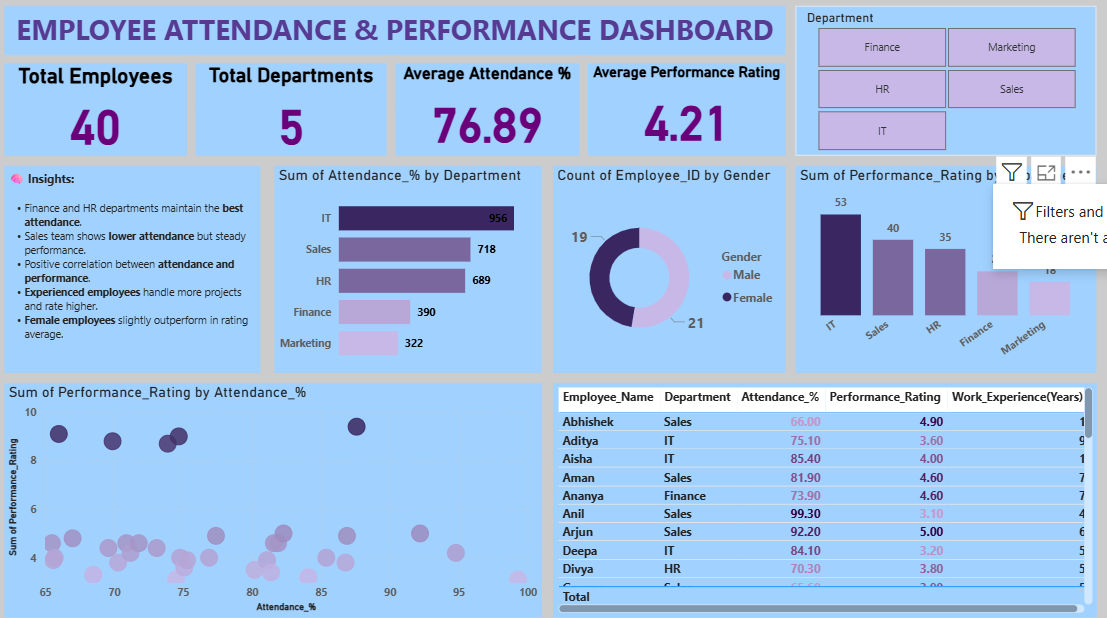

Layout of this report page (visuals, bound fields, positions):
{"tool":"powerbi","page":{"name":"Page 1","canvas":[1280,720],"ordinal":0},"visuals":[{"type":"card","title":"Total Employees","fields":{"Values":["Sheet1.Employee_ID"]},"box":[12.9,75.7,208.6,105.7],"z":0},{"type":"card","title":"Total Departments","fields":{"Values":["Sheet1.Department"]},"box":[231.4,75.7,218.6,105.7],"z":1000},{"type":"card","title":"Average Attendance %","fields":{"Values":["Sheet1.Attendance_%"]},"box":[460,75.7,210,105.7],"z":2000},{"type":"card","title":"Average Performance Rating","fields":{"Values":["Sheet1.Performance_Rating"]},"box":[680,75.7,225.7,105.7],"z":3000},{"type":"barChart","fields":{"Category":["Sheet1.Department"],"Y":["Sheet1.Attendance_%"]},"box":[321.4,192.9,305.7,237.1],"z":4000},{"type":"columnChart","fields":{"Category":["Sheet1.Department"],"Y":["Sheet1.Performance_Rating"]},"box":[917.1,192.9,344.3,237.1],"z":5000},{"type":"donutChart","fields":{"Category":["Sheet1.Gender"],"Y":["Sheet1.Employee_ID"]},"box":[640,192.9,265.7,237.1],"z":6000},{"type":"tableEx","fields":{"Values":["Sheet1.Employee_Name","Sheet1.Department","Sheet1.Attendance_%","Sheet1.Performance_Rating","Sheet1.Work_Experience(Years)"]},"box":[640,441.4,621.4,267.1],"z":7000},{"type":"scatterChart","fields":{"Y":["Sheet1.Performance_Rating"],"X":["Sheet1.Attendance_%"]},"box":[12.9,441.4,614.3,267.1],"z":8000},{"type":"textbox","box":[12.9,192.9,292.9,237.1],"z":9000},{"type":"textbox","box":[12.9,10,892.9,55.7],"z":10000},{"type":"slicer","fields":{"Values":["Sheet1.Department"]},"box":[917.1,10,344.3,171.4],"z":11000}]}

Visuals, with their boxes on the page's 1280x720 design canvas (x1, y1, x2, y2). These are canvas units, not pixel positions in the 1107x618 screenshot, which may show the page scaled, cropped or inside an application window:
"Total Employees" card: BBox(13, 76, 222, 181)
"Total Departments" card: BBox(231, 76, 450, 181)
"Average Attendance %" card: BBox(460, 76, 670, 181)
"Average Performance Rating" card: BBox(680, 76, 906, 181)
barChart - Sheet1.Department x Sheet1.Attendance_%: BBox(321, 193, 627, 430)
columnChart - Sheet1.Department x Sheet1.Performance_Rating: BBox(917, 193, 1261, 430)
donutChart - Sheet1.Gender x Sheet1.Employee_ID: BBox(640, 193, 906, 430)
tableEx - Sheet1.Employee_Name x Sheet1.Department: BBox(640, 441, 1261, 708)
scatterChart - Sheet1.Performance_Rating x Sheet1.Attendance_%: BBox(13, 441, 627, 708)
textbox: BBox(13, 193, 306, 430)
textbox: BBox(13, 10, 906, 66)
slicer - Sheet1.Department: BBox(917, 10, 1261, 181)
